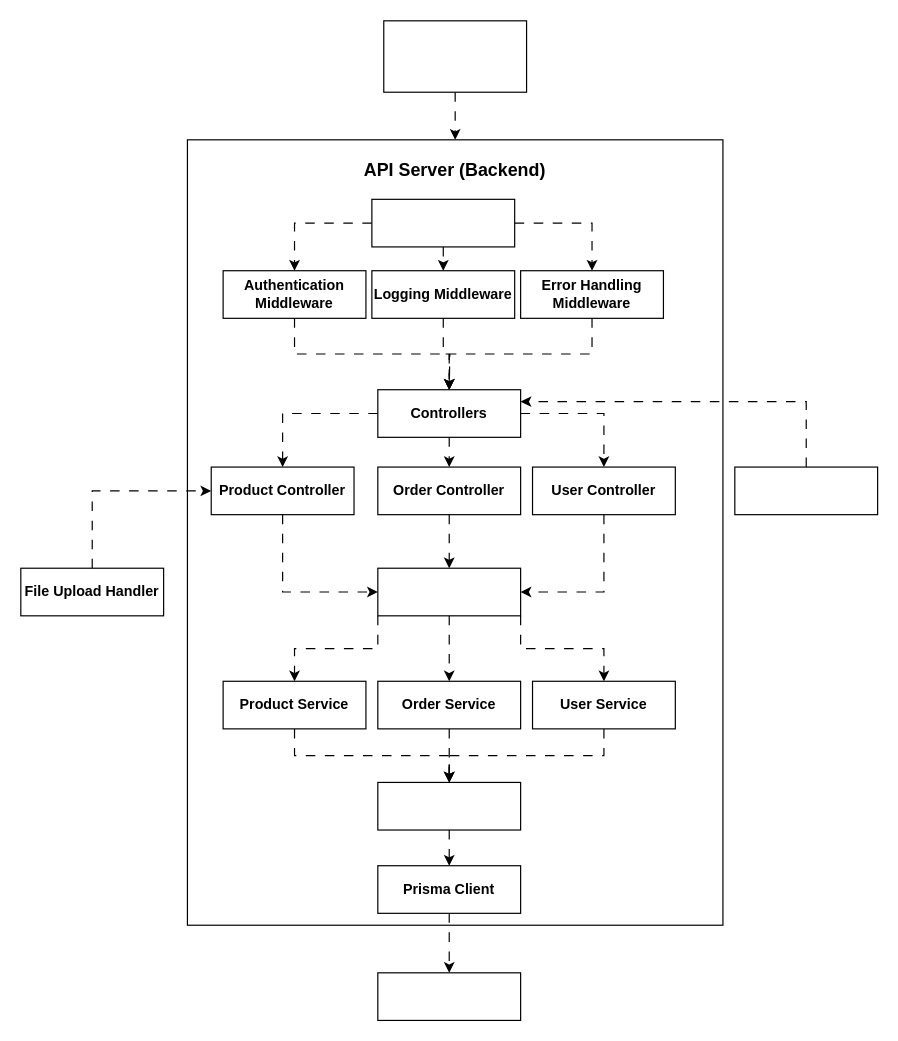
Image size: 898x1041. Some labels were removed from this diagram. The centre of each missing label's shape, as x and y in pixels:
Database: the point at 449,996
Front end: the point at 455,56
Lớp truy cập dữ liệu (Data Access Layer): the point at 449,805
Middleware: the point at 443,222
Role-based Access Control: the point at 806,490
Services (Business Logic): the point at 449,591
